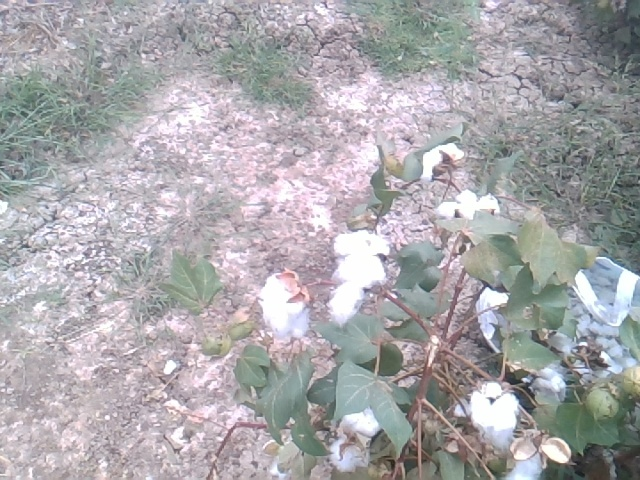cotton: (327, 230, 391, 323), (257, 270, 312, 342), (471, 380, 518, 448), (433, 190, 500, 237), (414, 142, 466, 183), (335, 404, 384, 441), (327, 434, 370, 474), (262, 445, 311, 479), (499, 452, 556, 480), (533, 368, 568, 399)
